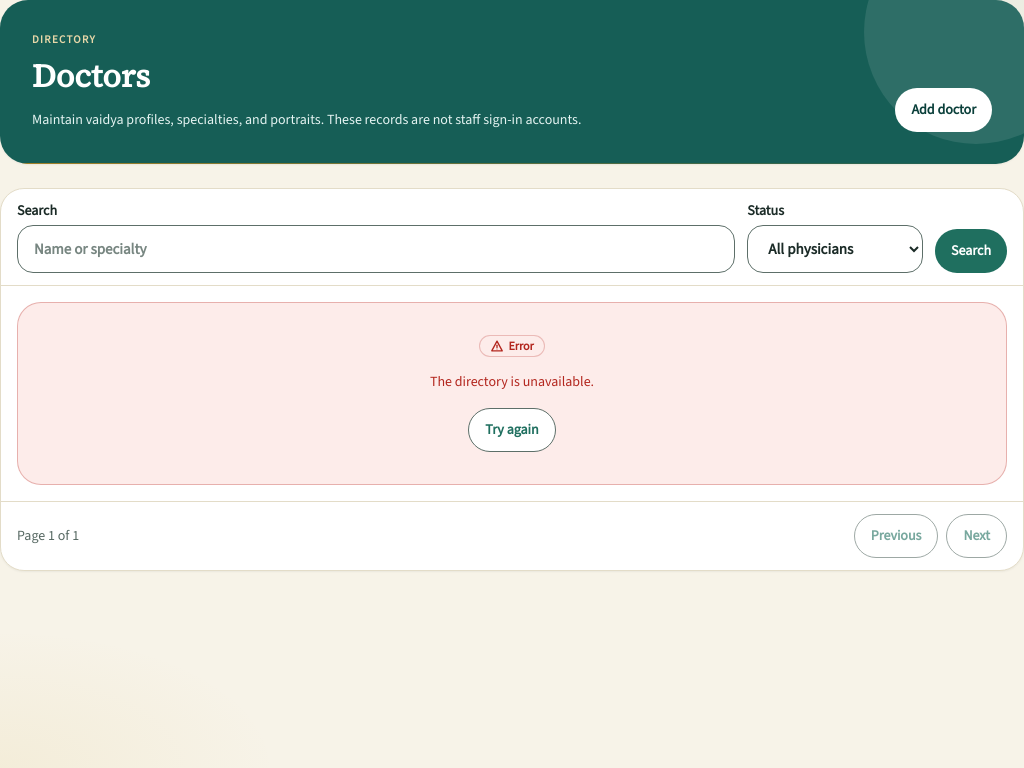
DoctorsPage › shows an error and retries
Expected: the text "The directory is unavailable." is shown, top-left (430, 372), bottom-right (594, 391)
Click the button "Try again": (512, 430) top-left (468, 408), bottom-right (556, 452)
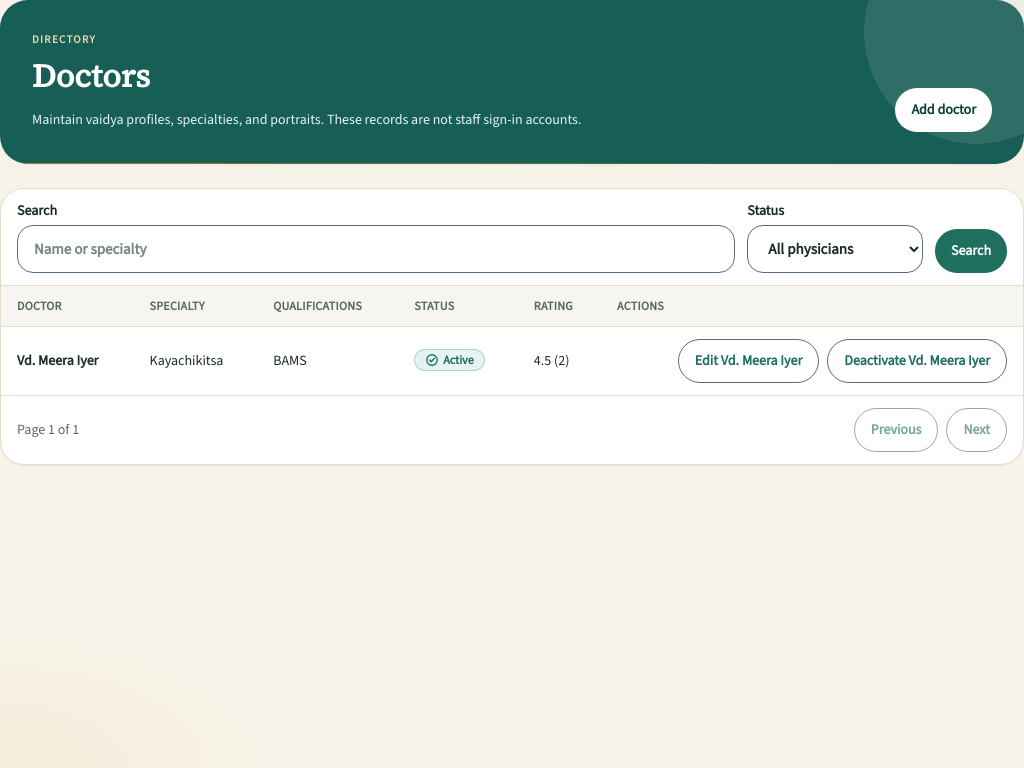
Expected: the text "Vd. Meera Iyer" is shown, top-left (17, 351), bottom-right (98, 370)
